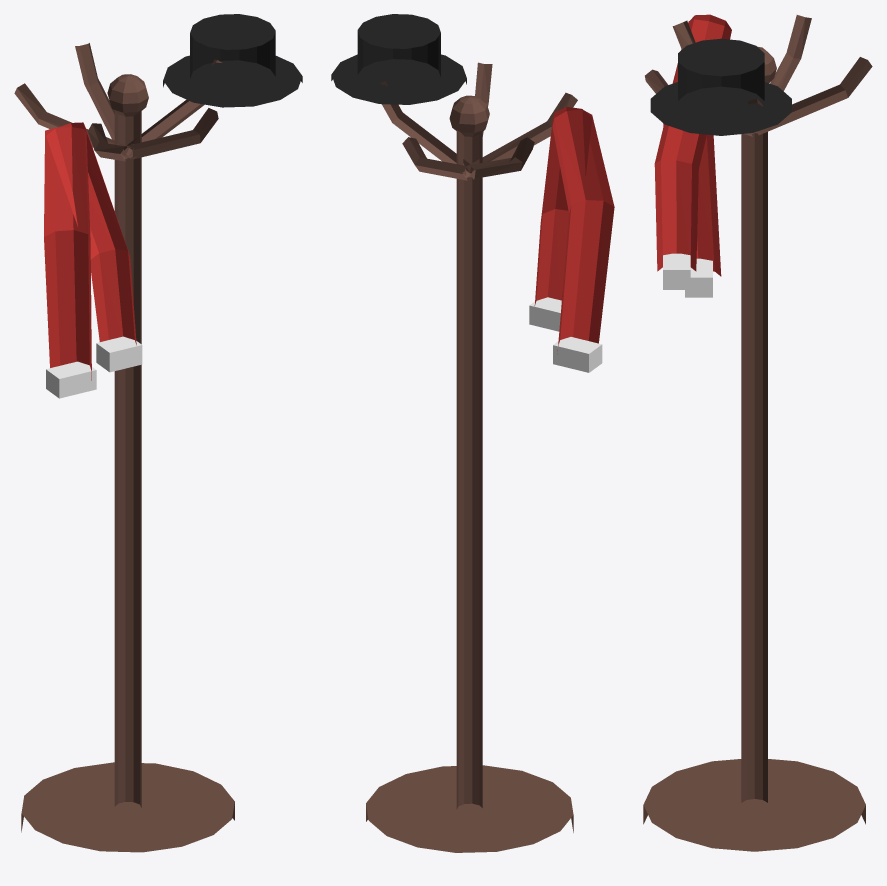
Rendered from hatthylla.glb.
The picture shows the model from 3 angles, left to right: view 1: azimuth 30°, elevation 25°; view 2: azimuth 150°, elevation 25°; view 3: azimuth 270°, elevation 25°; orthographic projection. The views are drawn at different scales.
Visible parts, largest first — view 1: hatthylla; view 2: hatthylla; view 3: hatthylla.
Boxes of the visible parts, box(x1,y1,x2,y2) form: hatthylla: box(14, 14, 302, 852); hatthylla: box(331, 14, 614, 852); hatthylla: box(643, 14, 872, 851).
Bounding box in the file's own units: 0.5649 × 1.61 × 0.4118.
